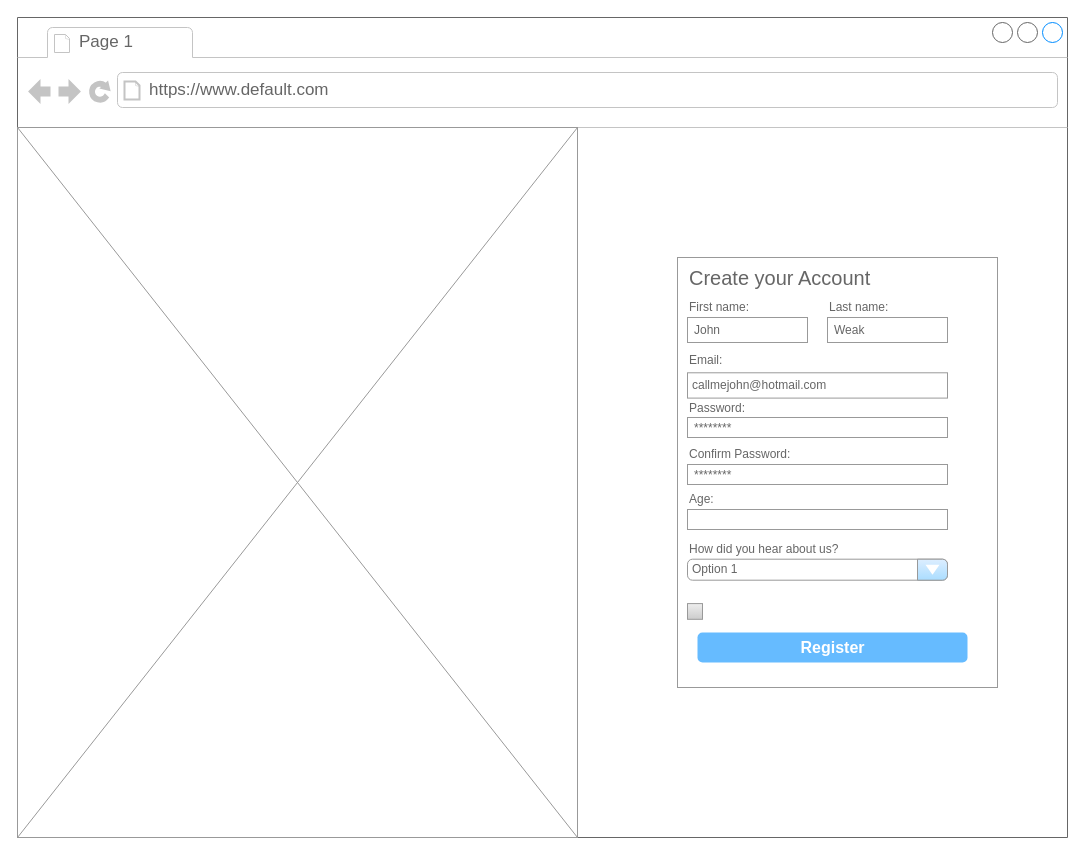
Image size: 1085x855. Some labels were removed from this diagram. The centre of each missing label's shape, as x and y in pixels:
I accept the terms and conditions.: (694,611)
image: (297,482)
